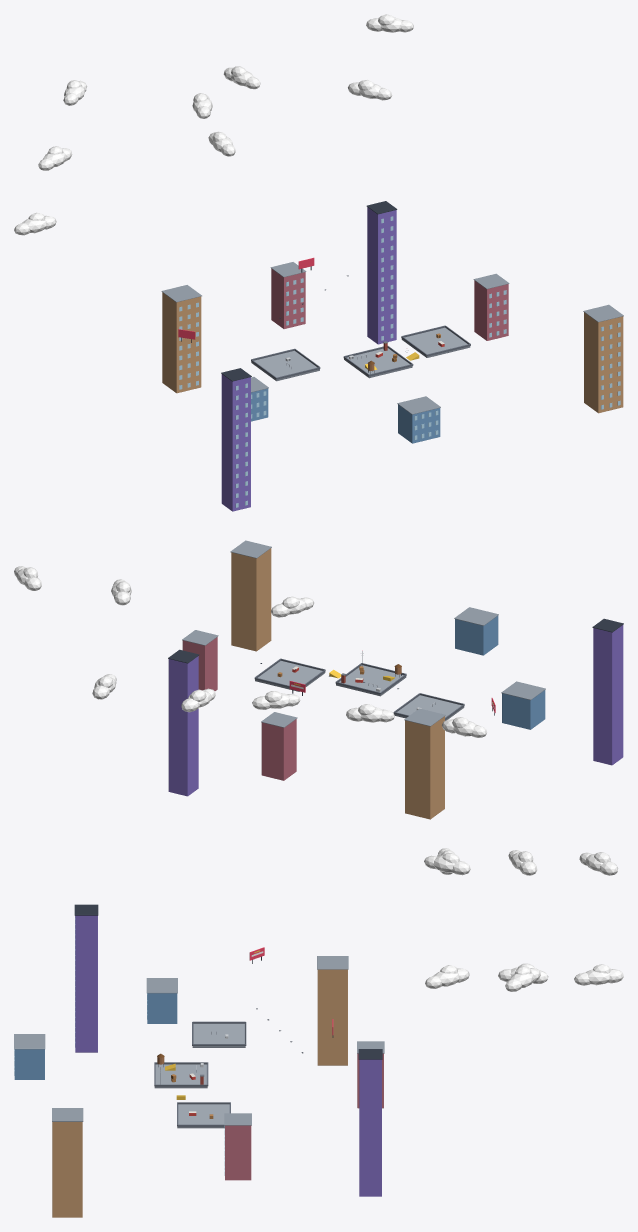
The model's file is Jumping_World.fbx.
3 views of the same model, one above another, from view 1: azimuth 30°, elevation 25°; view 2: azimuth 150°, elevation 25°; view 3: azimuth 270°, elevation 25° (orthographic). The views are drawn at different scales.
Parts seen in each view (by area): view 1: Tower.002, Tower.001, TallBuilding.002, TallBuilding.001, MidBuilding.001, MidBuilding.002, LowBuilding.002, Roof.003, Roof.002, Roof.001, LowBuilding.001; view 2: Tower.002, TallBuilding.002, TallBuilding.001, Tower.001, MidBuilding.002, LowBuilding.002, LowBuilding.001, MidBuilding.001, Roof.001, Roof.002, Roof.003, Cloud.002 (+7 smaller); view 3: Tower.002, Tower.001, TallBuilding.001, TallBuilding.002, MidBuilding.001, Roof.003, LowBuilding.001, LowBuilding.002, Roof.001, Roof.002, Cloud.006, Cloud.004 (+5 smaller).
Boxes of the visible parts, bbox=[...] form: Tower.002: bbox=[221, 368, 251, 511]; Tower.001: bbox=[366, 201, 397, 344]; TallBuilding.002: bbox=[583, 304, 623, 413]; TallBuilding.001: bbox=[161, 285, 201, 393]; MidBuilding.001: bbox=[473, 273, 509, 340]; MidBuilding.002: bbox=[270, 262, 306, 328]; LowBuilding.002: bbox=[397, 396, 440, 443]; Roof.003: bbox=[251, 348, 320, 381]; Roof.002: bbox=[401, 325, 470, 357]; Roof.001: bbox=[343, 346, 413, 378]; LowBuilding.001: bbox=[251, 377, 268, 421]; Tower.002: bbox=[592, 618, 623, 765]; TallBuilding.002: bbox=[230, 540, 271, 651]; TallBuilding.001: bbox=[404, 708, 445, 819]; Tower.001: bbox=[168, 649, 199, 796]; MidBuilding.002: bbox=[261, 712, 297, 780]; LowBuilding.002: bbox=[454, 607, 498, 655]; LowBuilding.001: bbox=[501, 681, 545, 729]; MidBuilding.001: bbox=[182, 630, 218, 690]; Roof.001: bbox=[335, 663, 406, 696]; Roof.002: bbox=[254, 658, 325, 691]; Roof.003: bbox=[393, 693, 464, 720]; Cloud.002: bbox=[346, 704, 394, 722]; Tower.002: bbox=[74, 904, 98, 1052]; Tower.001: bbox=[358, 1049, 382, 1196]; TallBuilding.001: bbox=[317, 956, 348, 1065]; TallBuilding.002: bbox=[52, 1108, 83, 1217]; MidBuilding.001: bbox=[224, 1113, 251, 1180]; Roof.003: bbox=[192, 1021, 246, 1047]; LowBuilding.001: bbox=[146, 978, 177, 1023]; LowBuilding.002: bbox=[14, 1034, 45, 1079]; Roof.001: bbox=[154, 1062, 208, 1088]; Roof.002: bbox=[177, 1102, 230, 1128]; Cloud.006: bbox=[574, 964, 623, 985]; Cloud.004: bbox=[424, 852, 470, 875].
Bounding box in the file's own units: 138 × 77.12 × 161.
